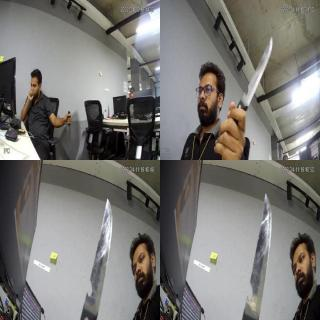knife: (243, 194, 275, 316), (83, 195, 113, 317), (237, 36, 273, 108), (67, 114, 73, 140)
